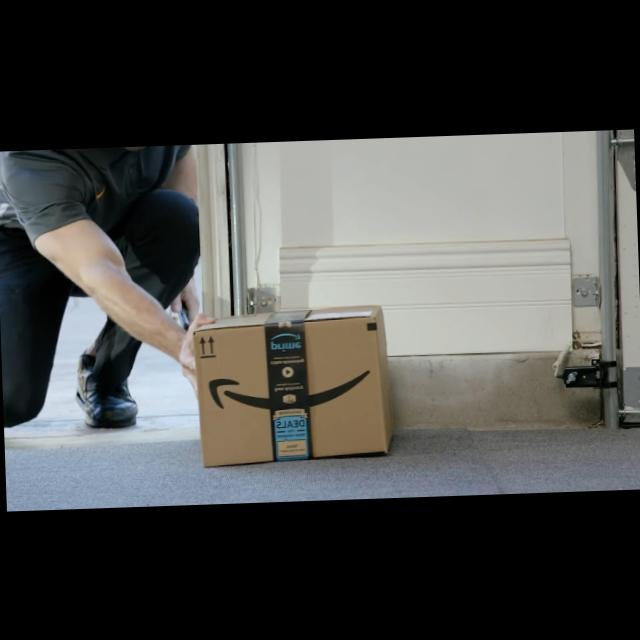box: (194, 305, 392, 466)
